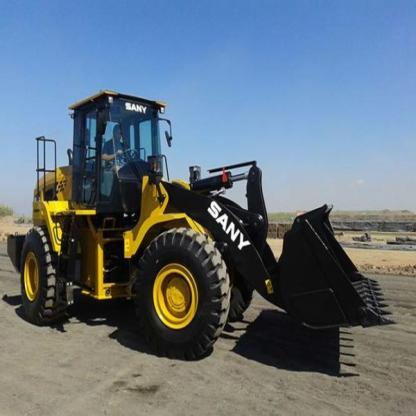bull_dozer/loader/grader: (6, 81, 406, 362)
